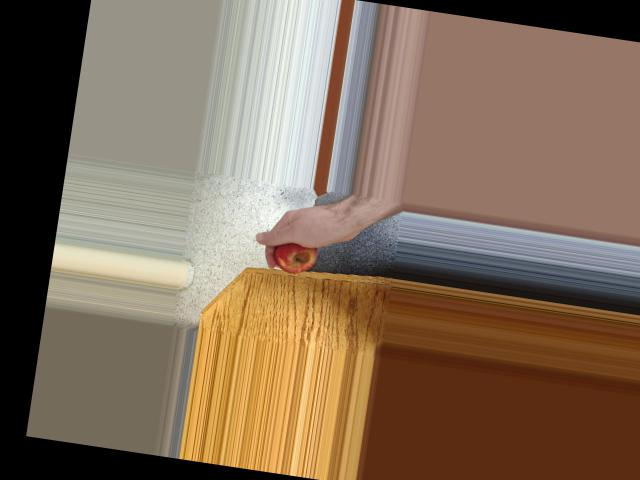apple: (269, 223, 326, 279)
